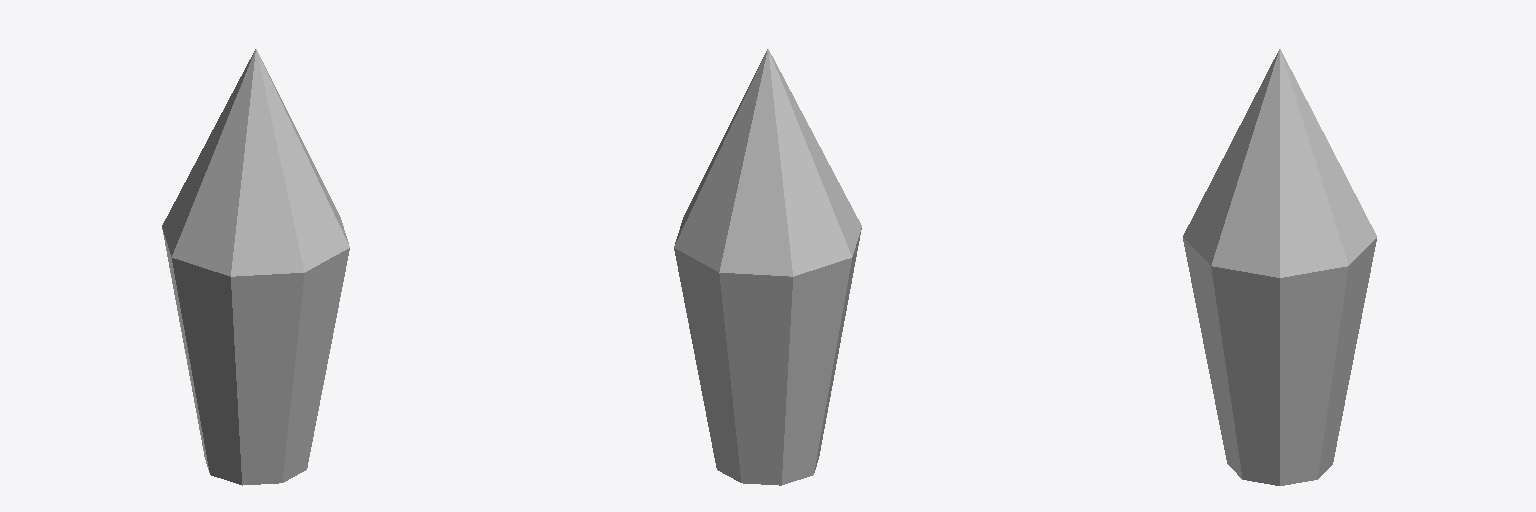
Rendered from crystal.obj.
3 renders of one model, left to right at view 1: azimuth 30°, elevation 25°; view 2: azimuth 150°, elevation 25°; view 3: azimuth 270°, elevation 25°, orthographic.
Visible parts, largest first — view 1: crystals_Circle; view 2: crystals_Circle; view 3: crystals_Circle.
Boxes of the visible parts, x1=… form: crystals_Circle: x1=162, y1=49, x2=349, y2=485; crystals_Circle: x1=674, y1=49, x2=861, y2=485; crystals_Circle: x1=1183, y1=49, x2=1376, y2=485.
Size of the model in its own units: 1.72 by 4.06 by 1.72.